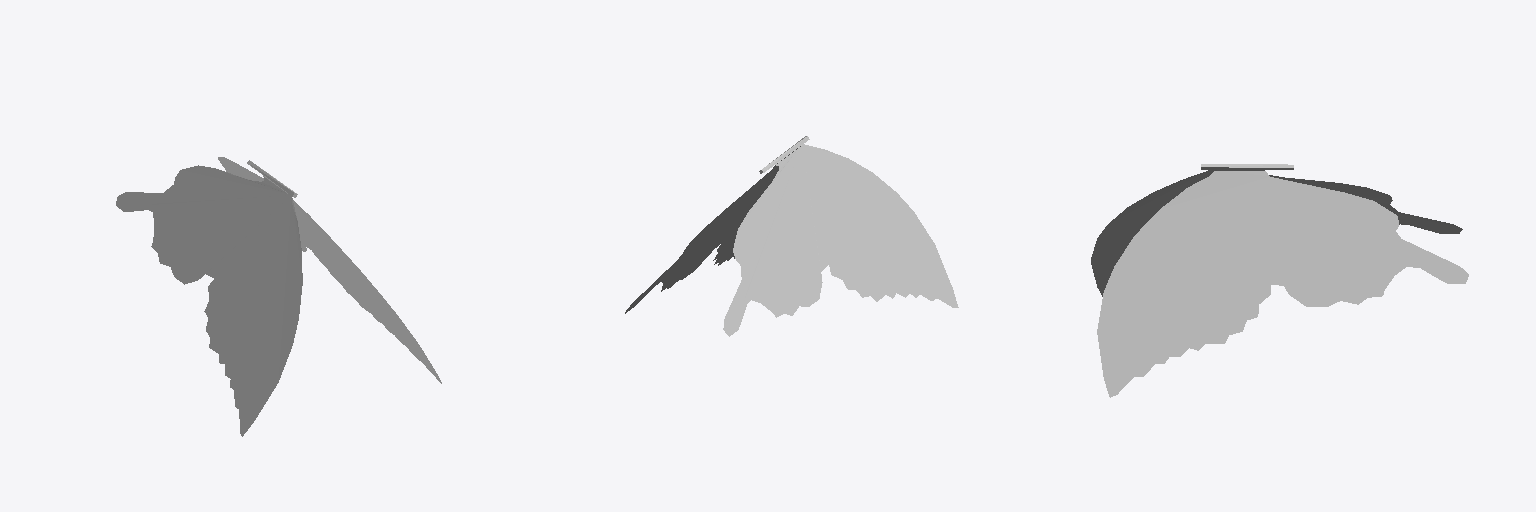
The model's file is mob_14.obj.
3 renders of one model, left to right at view 1: azimuth 30°, elevation 25°; view 2: azimuth 150°, elevation 25°; view 3: azimuth 270°, elevation 25°, orthographic.
Visible parts, largest first — view 1: Cube; view 2: Cube; view 3: Cube.
Boxes of the visible parts, <box> form: Cube: <box>116,157,441,436</box>; Cube: <box>625,136,958,336</box>; Cube: <box>1091,164,1468,397</box>.
Bounding box in the file's own units: 1.22 × 1.05 × 1.96.